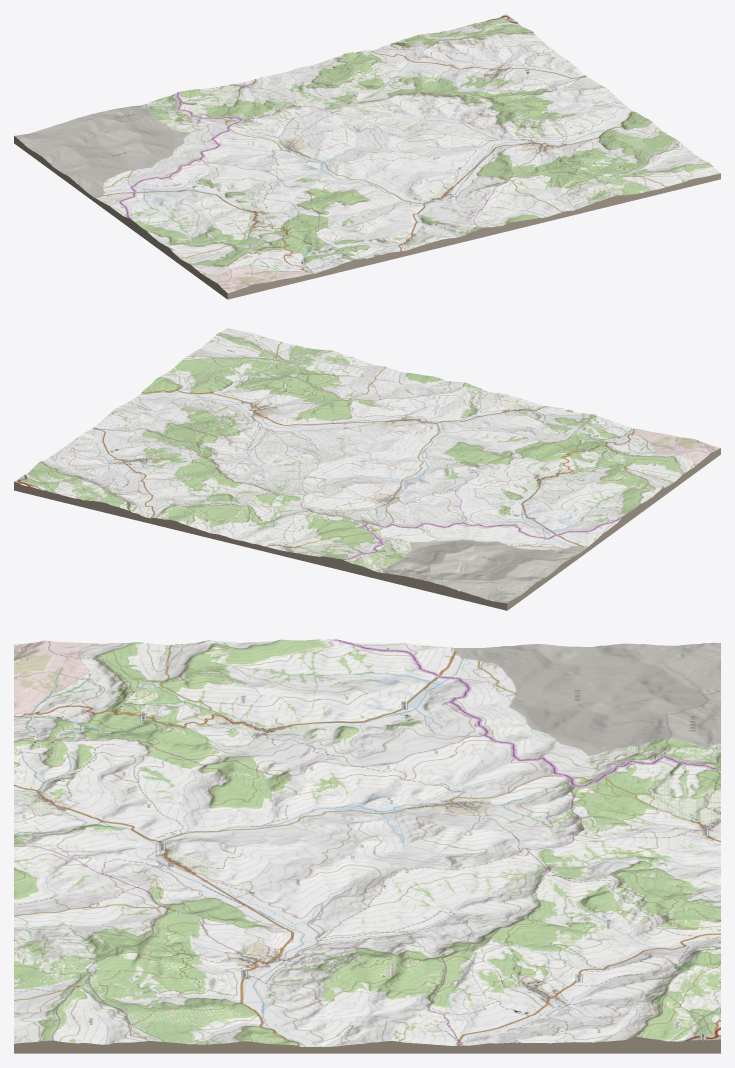
3 views of the same model, one above another, from view 1: azimuth 30°, elevation 25°; view 2: azimuth 150°, elevation 25°; view 3: azimuth 270°, elevation 25° (orthographic). The views are drawn at different scales.
Parts seen in each view (by area): view 1: BV50-B2 Jibert; view 2: BV50-B2 Jibert; view 3: BV50-B2 Jibert.
Part boxes in pixels (box(x1,y1,x2,y2)): BV50-B2 Jibert: box(14, 14, 720, 299); BV50-B2 Jibert: box(14, 328, 720, 610); BV50-B2 Jibert: box(14, 639, 720, 1053).
Bounding box in the file's own units: 20000 × 454 × 15000.
4 materials, 1 textured.
